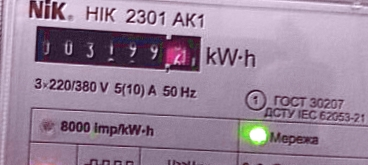0: (38, 36, 51, 57), (61, 36, 74, 56)
1: (105, 37, 116, 56)
3: (83, 40, 95, 59)
6: (172, 51, 182, 67)
9: (126, 39, 138, 59), (147, 41, 159, 60)
screen: (27, 21, 210, 80)
